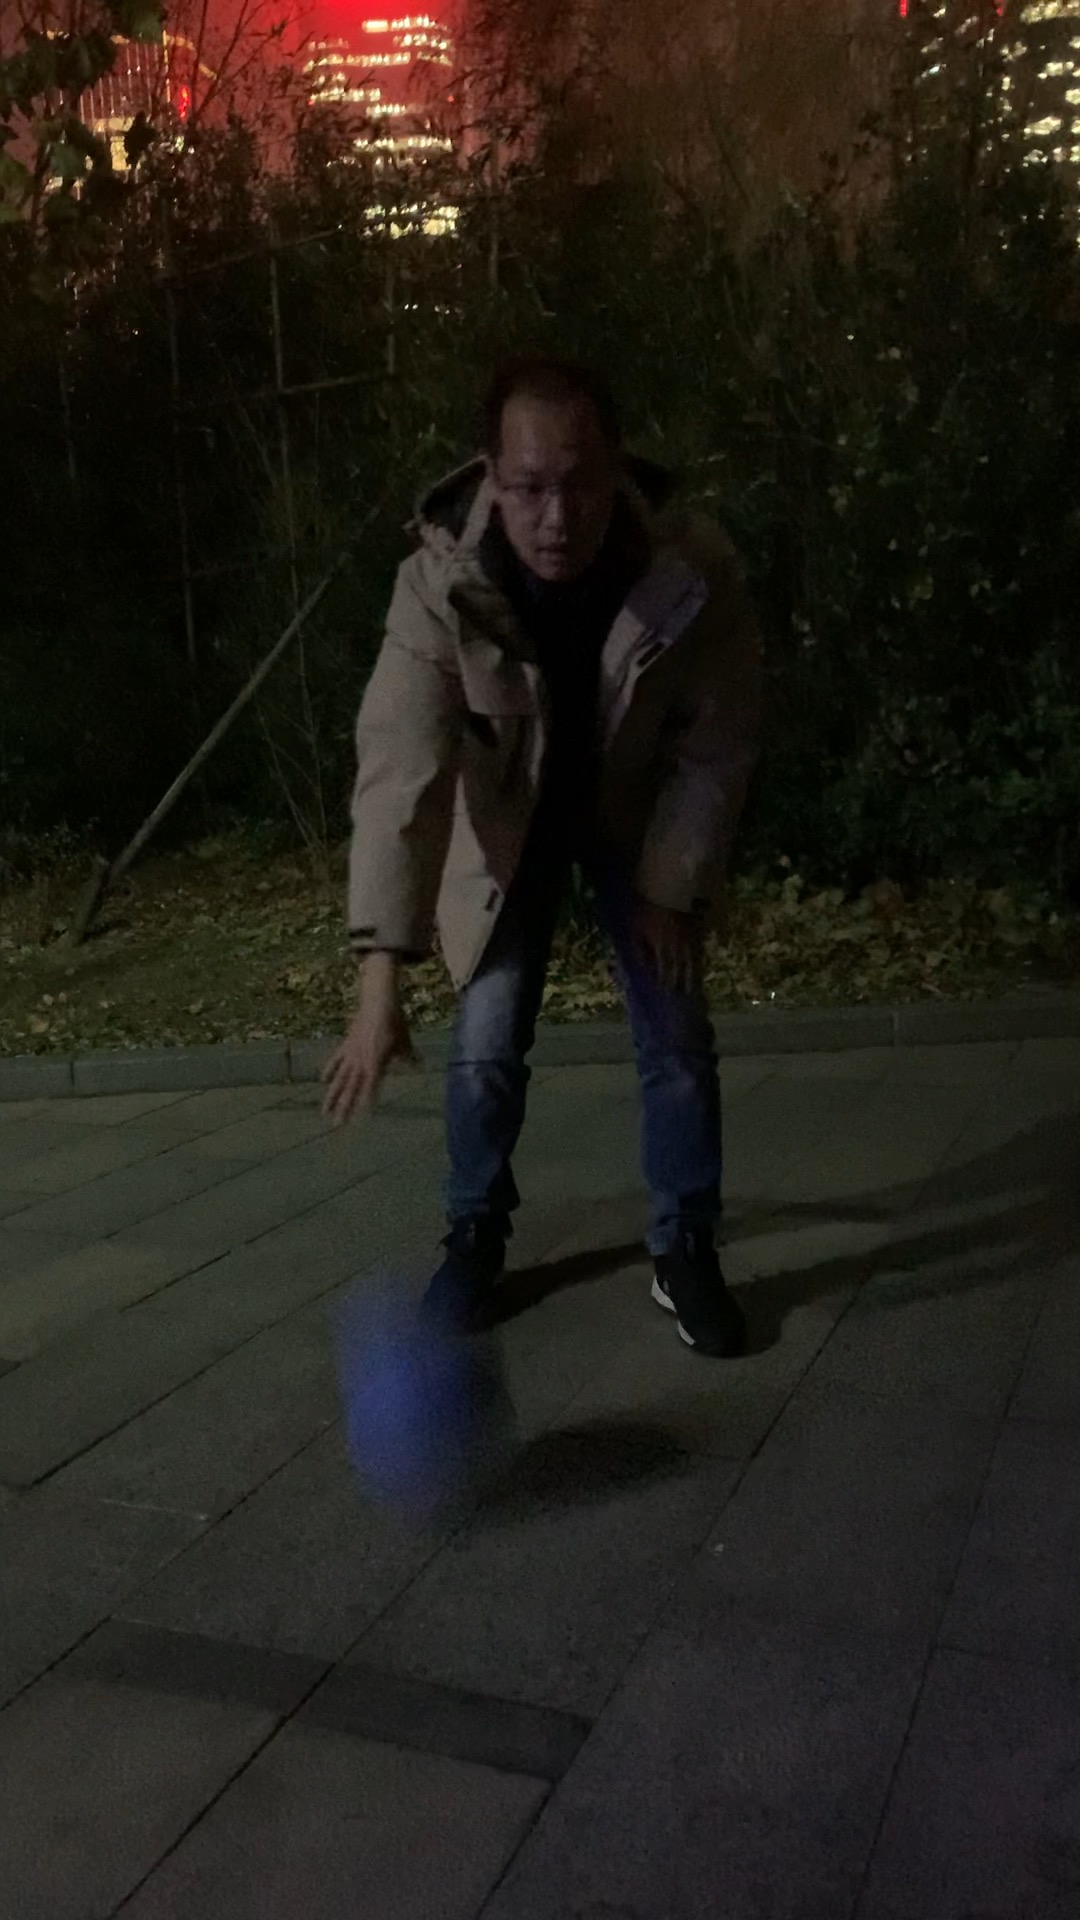ball: (353, 1364, 526, 1514)
